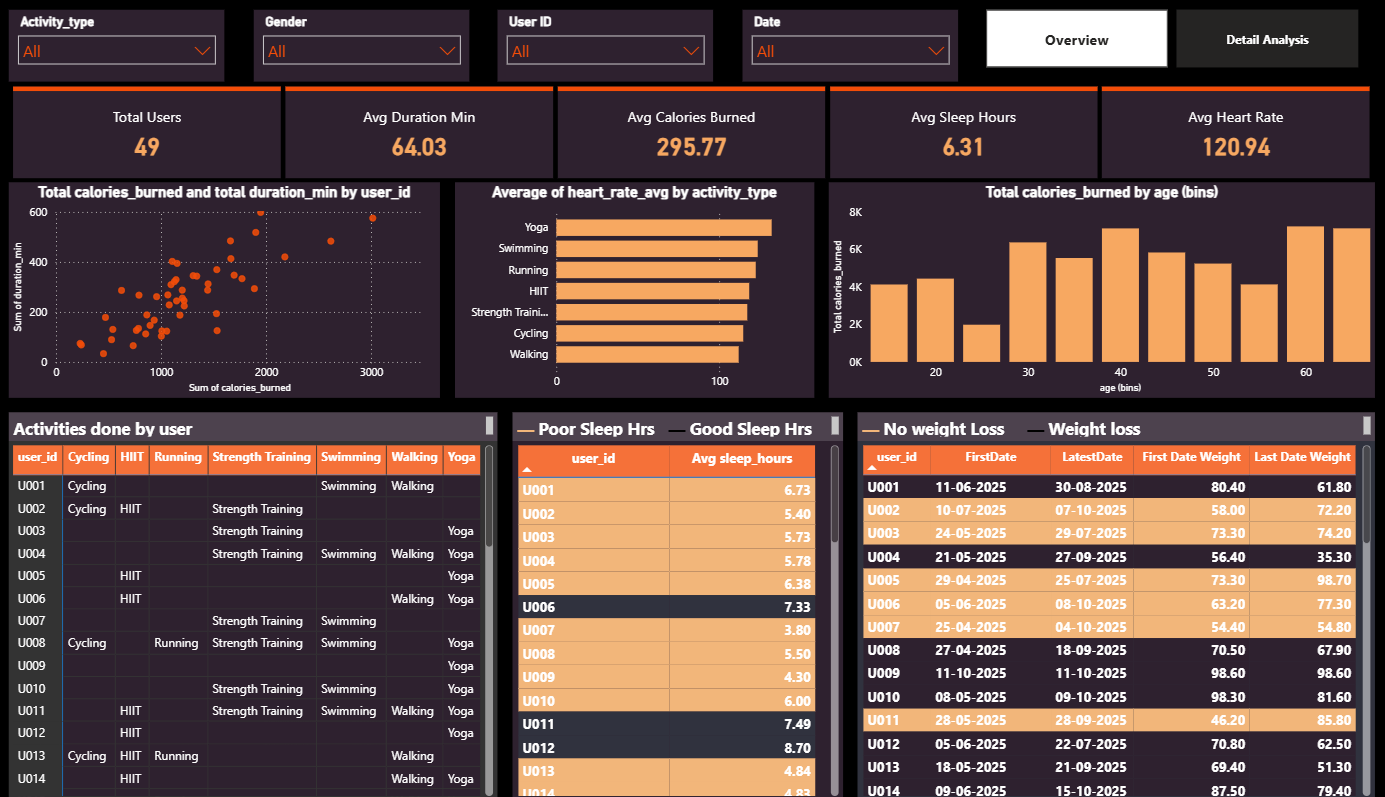

This screenshot's page, from the dashboard's own definition file:
{"tool":"powerbi","page":{"name":"Detail Analysis","canvas":[1550,900],"ordinal":1},"visuals":[{"type":"cardVisual","fields":{"Data":["Count(random_fitness_dataset.user_id)","Avg(random_fitness_dataset.duration_min)","Avg(random_fitness_dataset.calories_burned)","Avg(random_fitness_dataset.sleep_hours)","Avg(random_fitness_dataset.heart_rate_avg)"]},"box":[16,96,1520,112],"z":0},{"type":"barChart","fields":{"Y":["Avg(random_fitness_dataset.heart_rate_avg)"],"Category":["random_fitness_dataset.activity_type"]},"box":[512,208,400,240],"z":1000},{"type":"columnChart","fields":{"Y":["Sum(random_fitness_dataset.calories_burned)"],"Category":["random_fitness_dataset.age (bins)"]},"box":[928,208,608,240],"z":2000},{"type":"tableEx","title":"Weight Loss or Not                                      ","fields":{"Values":["Userweightupdate.user_id","Userweightupdate.FirstUpdate","Userweightupdate.LatestUpdate","Sum(Userweightupdate.FirstWeight)","Sum(Userweightupdate.LatestWeight)"]},"box":[960,496,576,400],"z":3000},{"type":"tableEx","title":"Poor Sleep Hours","fields":{"Values":["random_fitness_dataset.user_id","Avg(random_fitness_dataset.sleep_hours)"]},"box":[576,496,368,400],"z":4000},{"type":"slicer","fields":{"Values":["random_fitness_dataset.activity_type"]},"box":[16,16,240,80],"z":5000},{"type":"slicer","fields":{"Values":["random_fitness_dataset.Date"]},"box":[832,16,240,80],"z":6000},{"type":"slicer","fields":{"Values":["random_fitness_dataset.gender"]},"box":[288,16,240,80],"z":7000},{"type":"slicer","fields":{"Values":["random_fitness_dataset.user_id"]},"box":[560,16,240,80],"z":8000},{"type":"pageNavigator","box":[1104,16,416,64],"z":9000},{"type":"pivotTable","title":"Activities done by user","fields":{"Rows":["random_fitness_dataset.user_id"],"Columns":["random_fitness_dataset.activity_type"],"Values":["Min(random_fitness_dataset.activity_type)"]},"box":[16,496,544,400],"z":10000},{"type":"textbox","box":[960,464,576,32],"z":11000},{"type":"textbox","box":[576,464,368,32],"z":12000},{"type":"textbox","box":[16,464,544,32],"z":13000},{"type":"scatterChart","title":"Total calories_burned and total duration_min by user_id","fields":{"X":["Sum(random_fitness_dataset.calories_burned)"],"Y":["Sum(random_fitness_dataset.duration_min)"],"Category":["random_fitness_dataset.user_id"]},"box":[16,208,480,240],"z":14000}]}

Visuals, with their boxes in screenshot pixels (x1, y1, x2, y2), scaled from the page's 1550x900 canvas onto the 1385x797 screenshot:
cardVisual - Count(random_fitness_dataset.user_id) x Avg(random_fitness_dataset.duration_min): locate(14, 85, 1372, 184)
barChart - Avg(random_fitness_dataset.heart_rate_avg) x random_fitness_dataset.activity_type: locate(457, 184, 815, 397)
columnChart - Sum(random_fitness_dataset.calories_burned) x random_fitness_dataset.age (bins): locate(829, 184, 1372, 397)
"Weight Loss or Not                                      " tableEx: locate(858, 439, 1372, 793)
"Poor Sleep Hours" tableEx: locate(515, 439, 844, 793)
slicer - random_fitness_dataset.activity_type: locate(14, 14, 229, 85)
slicer - random_fitness_dataset.Date: locate(743, 14, 958, 85)
slicer - random_fitness_dataset.gender: locate(257, 14, 472, 85)
slicer - random_fitness_dataset.user_id: locate(500, 14, 715, 85)
pageNavigator: locate(986, 14, 1358, 71)
"Activities done by user" pivotTable: locate(14, 439, 500, 793)
textbox: locate(858, 411, 1372, 439)
textbox: locate(515, 411, 844, 439)
textbox: locate(14, 411, 500, 439)
"Total calories_burned and total duration_min by user_id" scatterChart: locate(14, 184, 443, 397)
